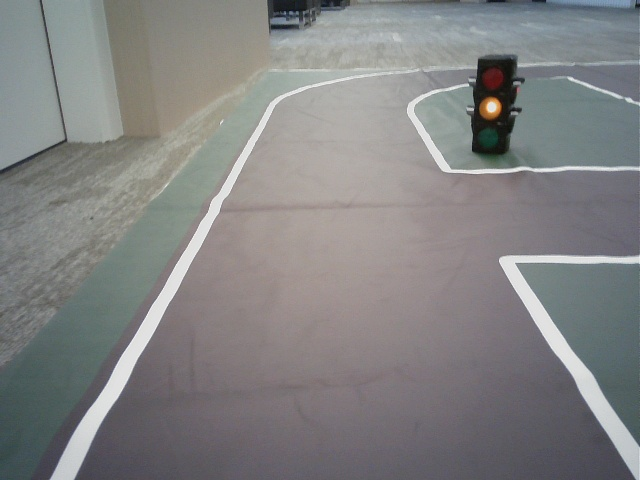yellow: (474, 60, 503, 146)
